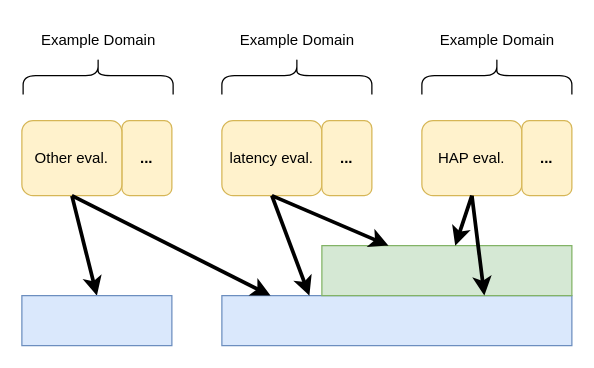
The diagram is 594 pixels wide and 368 high, and some of its shapes have lost their labels. The shapes that lost their labels are listed below. From the top down, each one's centre as x and y in pixels, then its label:
At (x=446, y=270): "unitxt".
At (x=96, y=320): "other runtime".
At (x=396, y=320): "lm-evaluation-harness".
